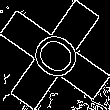O_SE: (22, 23, 88, 87)
